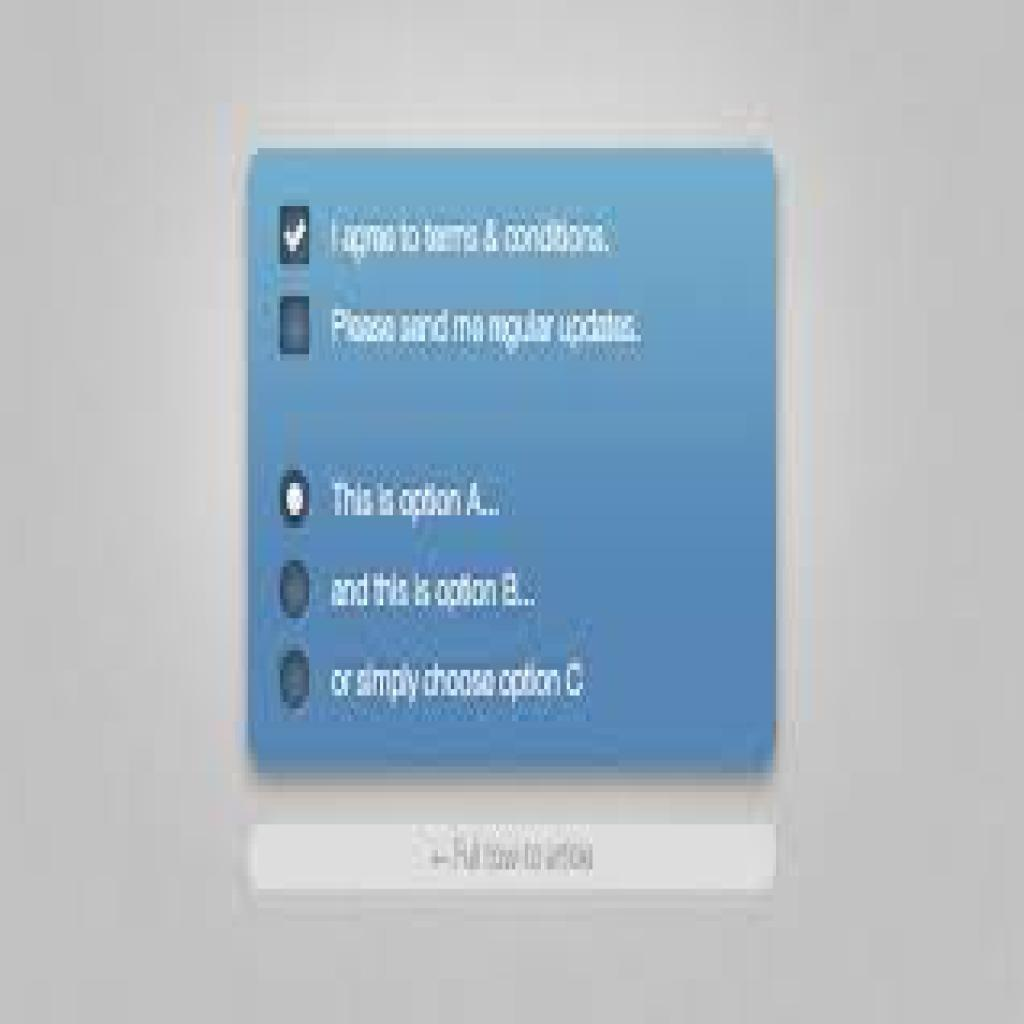button: (255, 827, 771, 884)
checkbox: (278, 294, 312, 358), (281, 207, 313, 268)
label: (331, 300, 648, 358), (326, 212, 626, 271), (333, 659, 597, 708), (331, 474, 503, 526), (329, 573, 547, 613)
radio: (278, 637, 318, 718), (278, 556, 317, 626), (277, 465, 315, 534)
